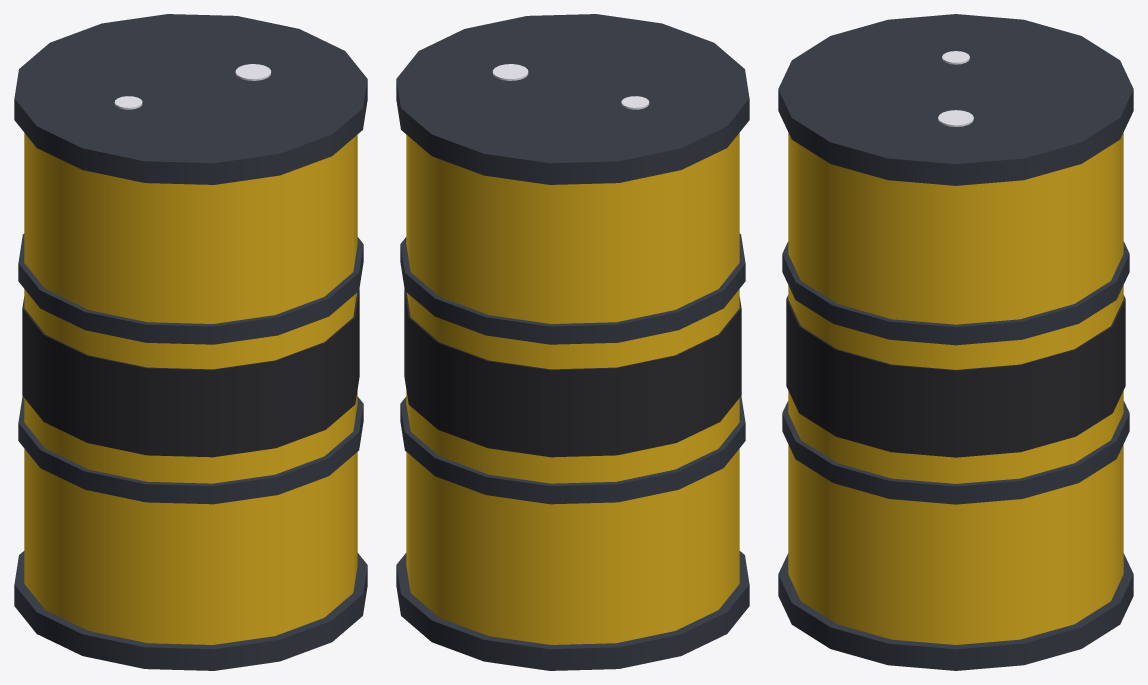
File: tactical_barrel.glb
The picture shows the model from 3 angles, left to right: view 1: azimuth 30°, elevation 25°; view 2: azimuth 150°, elevation 25°; view 3: azimuth 270°, elevation 25°; orthographic projection.
Parts seen in each view (by area): view 1: BarrelBody, RimTop, HazardBand, RimBottom, Rib2, Rib1; view 2: BarrelBody, RimTop, HazardBand, RimBottom, Rib2, Rib1; view 3: BarrelBody, RimTop, HazardBand, RimBottom, Rib1, Rib2.
Part boxes in pixels (x1,y1,x2,y2): BarrelBody: [24, 133, 357, 644]; RimTop: [14, 14, 367, 184]; HazardBand: [22, 289, 359, 457]; RimBottom: [14, 551, 367, 670]; Rib2: [18, 233, 363, 344]; Rib1: [18, 396, 363, 504]; BarrelBody: [406, 133, 739, 644]; RimTop: [396, 14, 749, 184]; HazardBand: [404, 289, 741, 457]; RimBottom: [396, 551, 749, 670]; Rib2: [400, 233, 745, 344]; Rib1: [400, 396, 745, 504]; BarrelBody: [788, 133, 1123, 644]; RimTop: [778, 14, 1133, 185]; HazardBand: [786, 295, 1125, 457]; RimBottom: [778, 553, 1133, 670]; Rib1: [782, 401, 1129, 504]; Rib2: [782, 241, 1129, 345].
Bounding box in the file's own units: 0.89 × 1.4 × 0.89.
